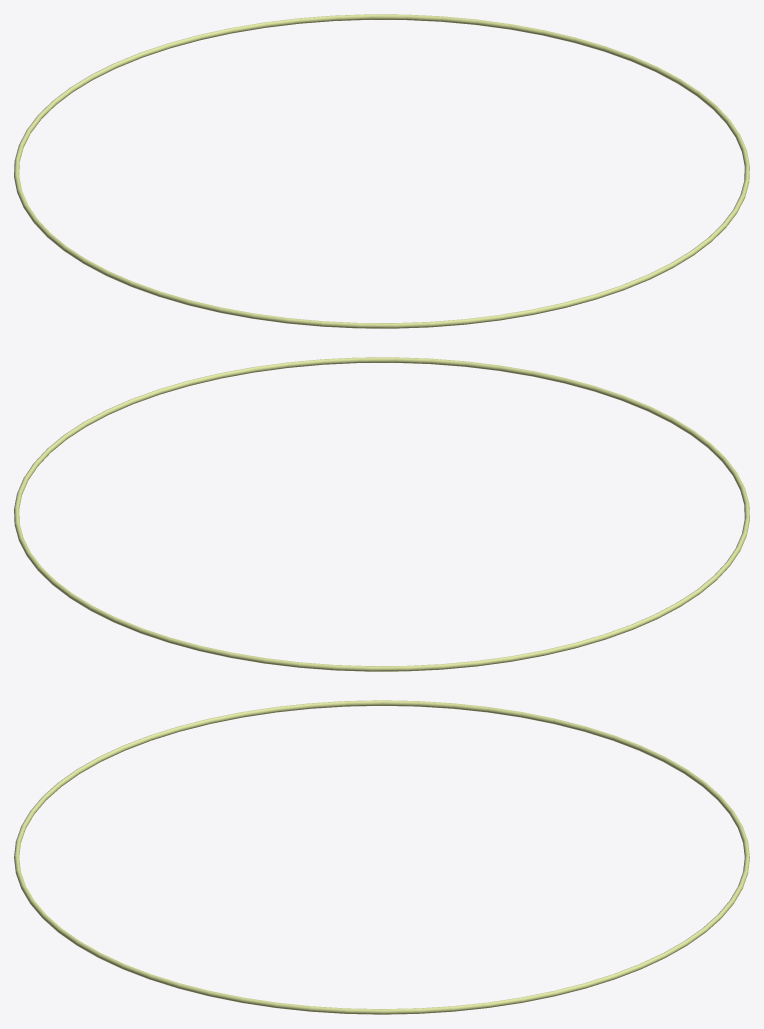
The model's file is Ring4.fbx.
The picture shows the model from 3 angles, top to bottom: view 1: azimuth 30°, elevation 25°; view 2: azimuth 150°, elevation 25°; view 3: azimuth 270°, elevation 25°; orthographic projection.
Visible parts, largest first — view 1: Ring4; view 2: Ring4; view 3: Ring4.
Part boxes in pixels (x1=…): Ring4: x1=14, y1=14, x2=749, y2=328; Ring4: x1=14, y1=357, x2=749, y2=671; Ring4: x1=14, y1=700, x2=749, y2=1014.
Bounding box in the file's own units: 13100 × 100 × 13100.
